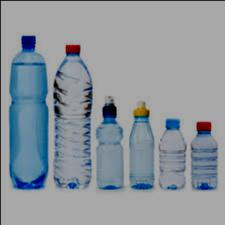Plastic: (8, 33, 50, 190)
